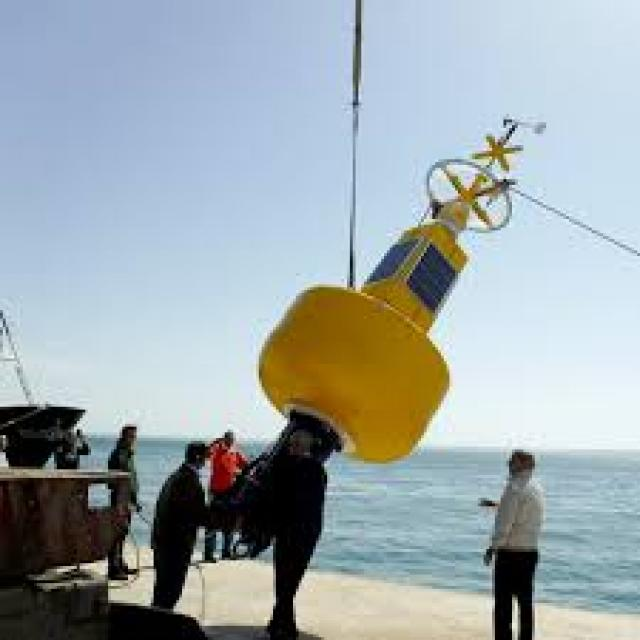buoy: (249, 116, 537, 440)
